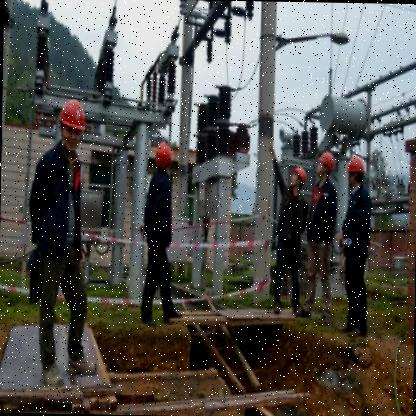capacete: (57, 98, 87, 150), (344, 154, 364, 190), (151, 140, 172, 174), (316, 148, 335, 183), (288, 162, 306, 195)
sem_colete_refletivo: (28, 143, 82, 251), (142, 168, 174, 244), (340, 186, 372, 257), (274, 187, 306, 252), (305, 180, 338, 243)
